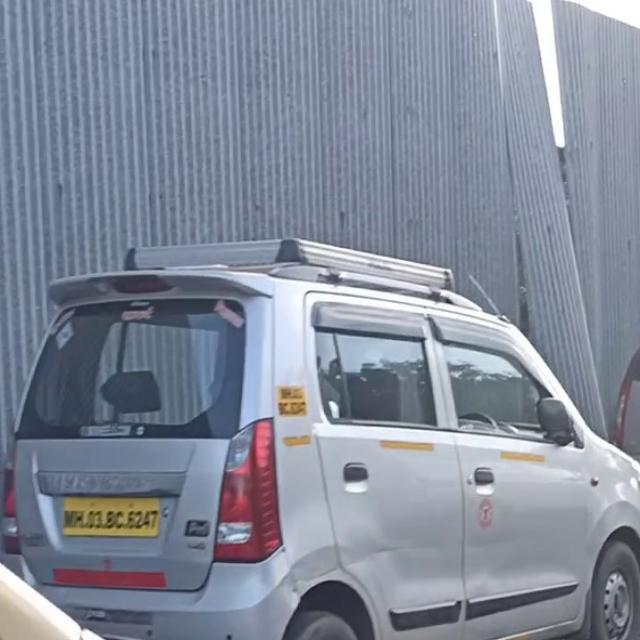Plate: (62, 493, 162, 539)
